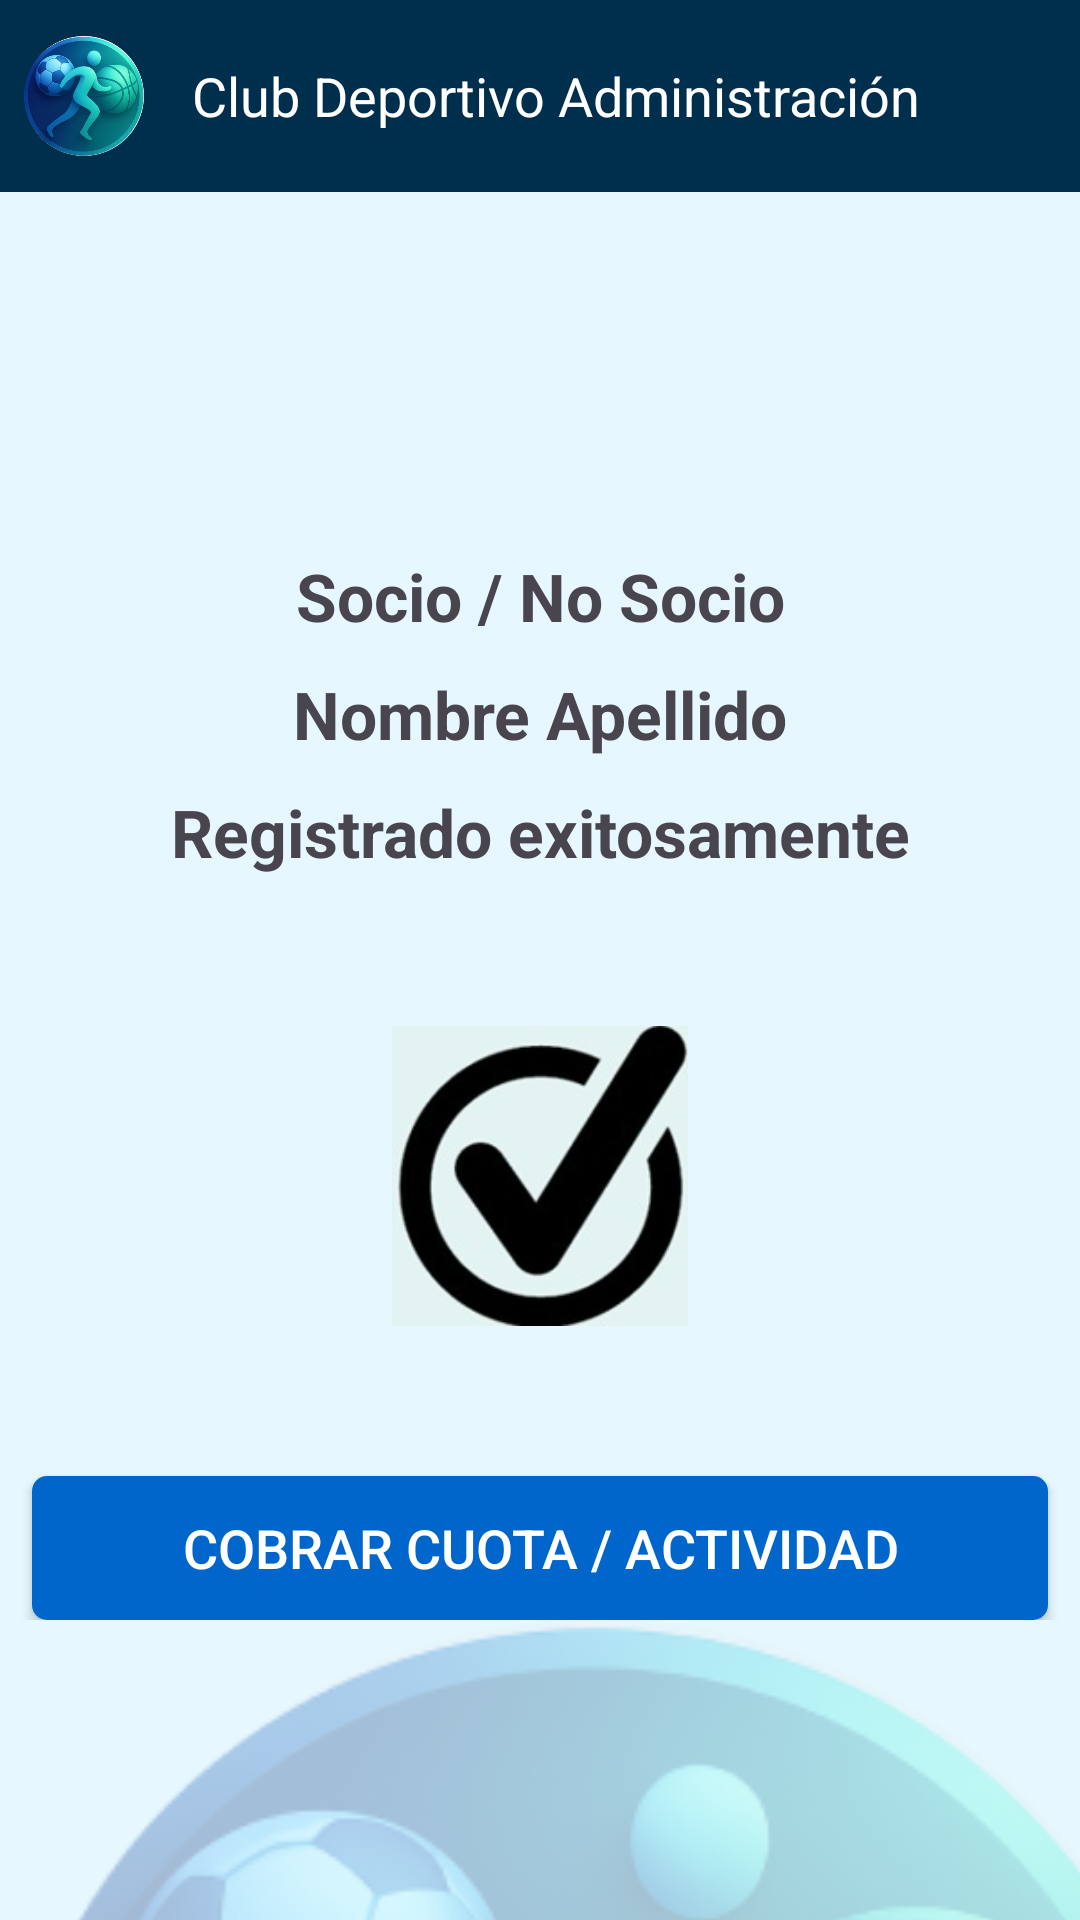

Screen size 1080×1920. Icon name, then its box in pixels as (x1=x1, y1=y1, x2=x2, y2=y2):
registrar checked: (x1=398, y1=1026, x2=688, y2=1326)
